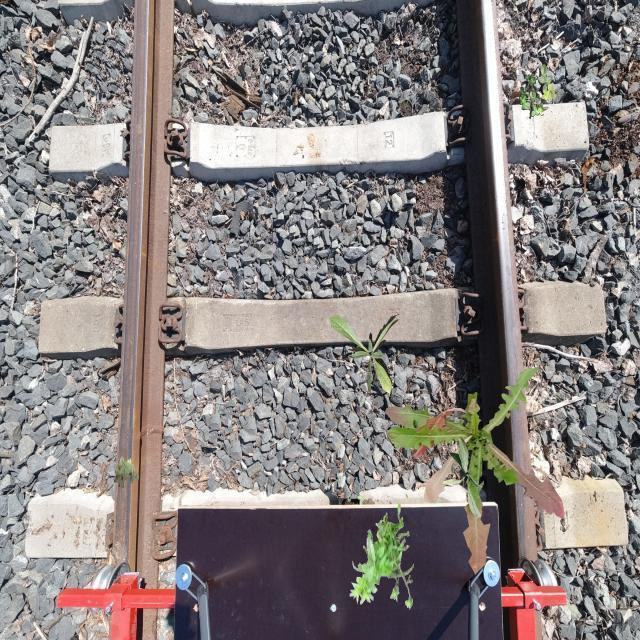Plant: (385, 367, 565, 576), (350, 503, 414, 610), (329, 314, 401, 395), (443, 437, 483, 520), (519, 64, 556, 119), (114, 456, 140, 488)
